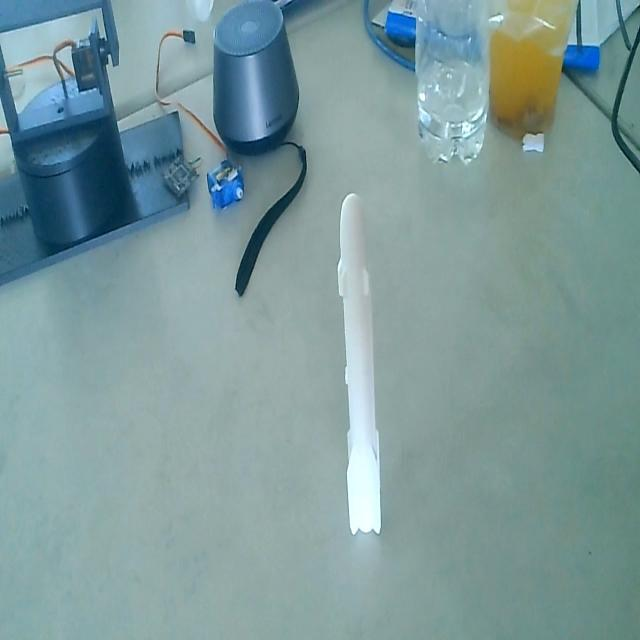Rocket: (334, 186, 385, 542)
